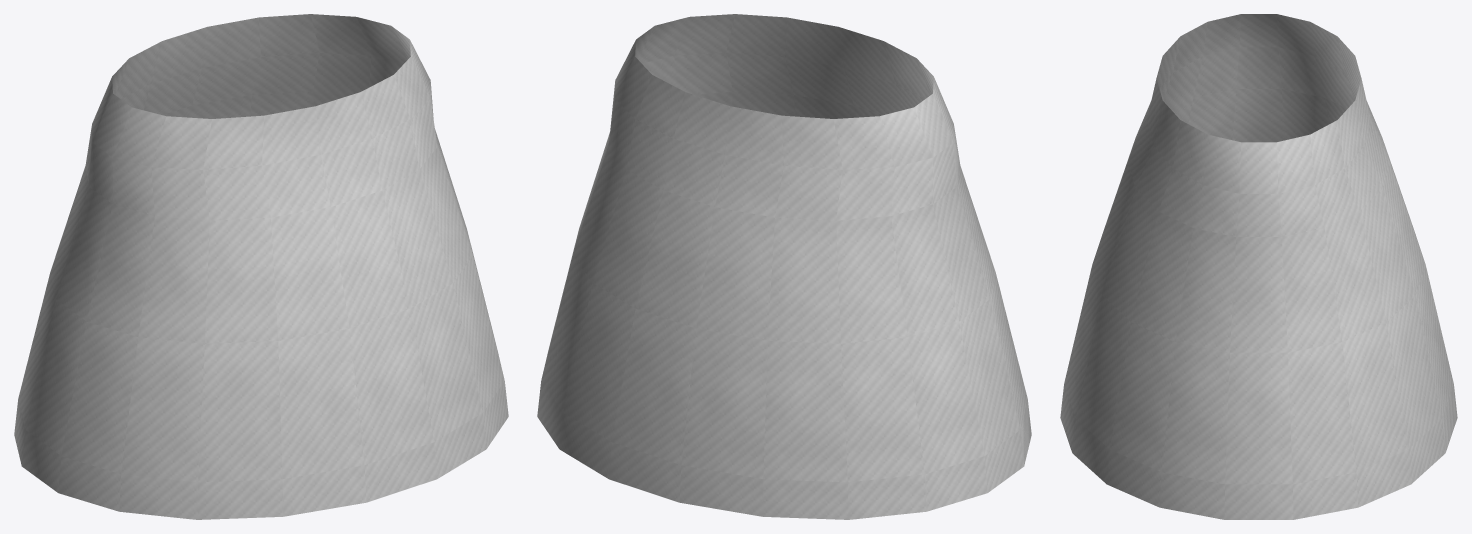
File: pants_skirt_hips_f.glb
3 renders of one model, left to right at view 1: azimuth 30°, elevation 25°; view 2: azimuth 150°, elevation 25°; view 3: azimuth 270°, elevation 25°, orthographic. The views are drawn at different scales.
Visible parts, largest first — view 1: pants_skirt_hips_f; view 2: pants_skirt_hips_f; view 3: pants_skirt_hips_f.
Part boxes in pixels (left/top/right/bottom): pants_skirt_hips_f: left=14, top=14, right=508, bottom=519; pants_skirt_hips_f: left=537, top=14, right=1031, bottom=519; pants_skirt_hips_f: left=1060, top=14, right=1457, bottom=519.
Bounding box in the file's own units: 0.516 × 0.4 × 0.424.
1 material, 1 textured.
